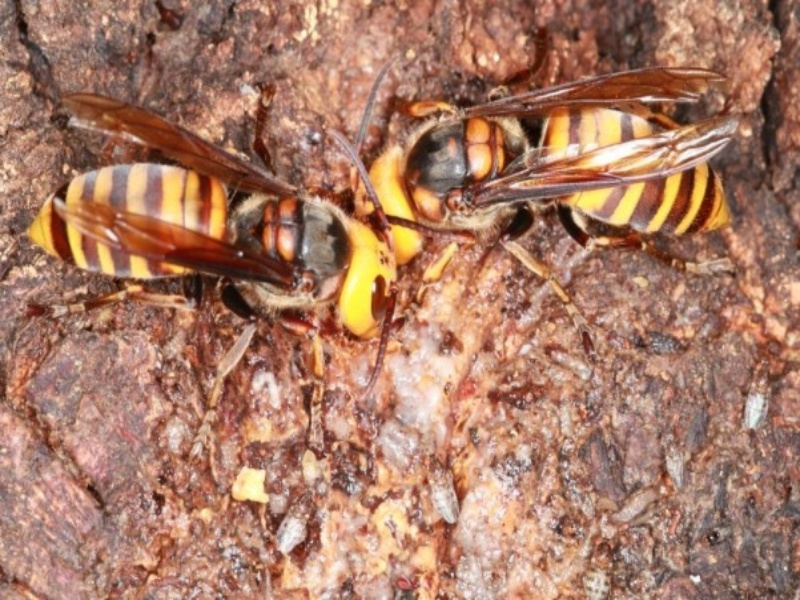asian_giant_hornet: (23, 162, 399, 342), (343, 102, 735, 267)
